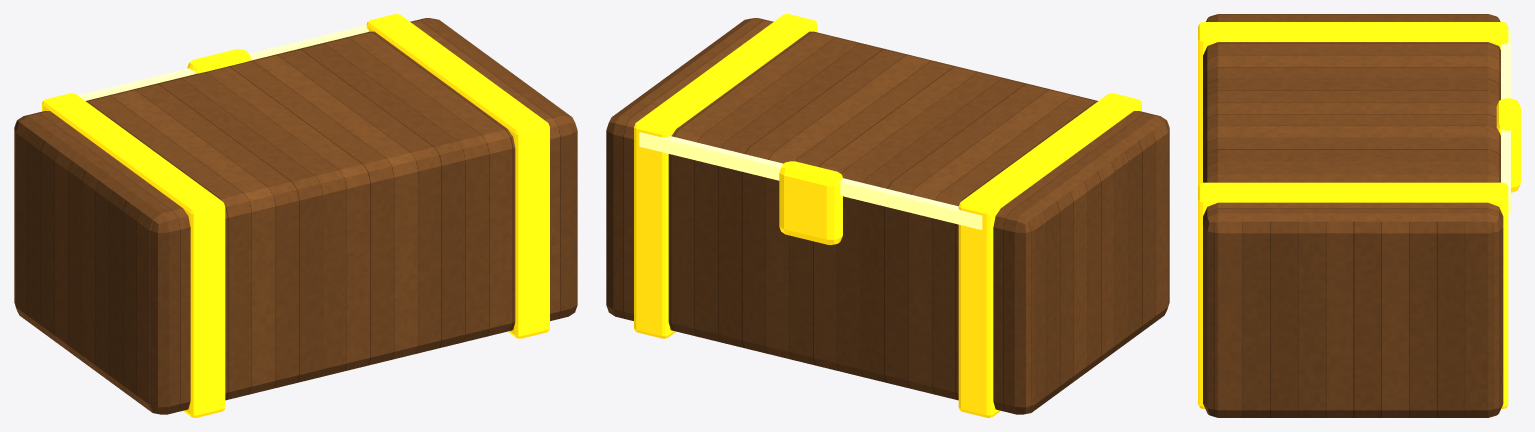
File: env_loot_chest.glb
The picture shows the model from 3 angles, left to right: view 1: azimuth 30°, elevation 25°; view 2: azimuth 150°, elevation 25°; view 3: azimuth 270°, elevation 25°; orthographic projection.
Parts seen in each view (by area): view 1: env_loot_chest; view 2: env_loot_chest; view 3: env_loot_chest.
Part boxes in pixels (left/top/right/bottom): env_loot_chest: left=14, top=14, right=577, bottom=417; env_loot_chest: left=606, top=14, right=1169, bottom=417; env_loot_chest: left=1198, top=14, right=1520, bottom=417.
Size of the model in its own units: 1 by 0.47 by 0.645.
Materials: 3 (1 with a texture image).
